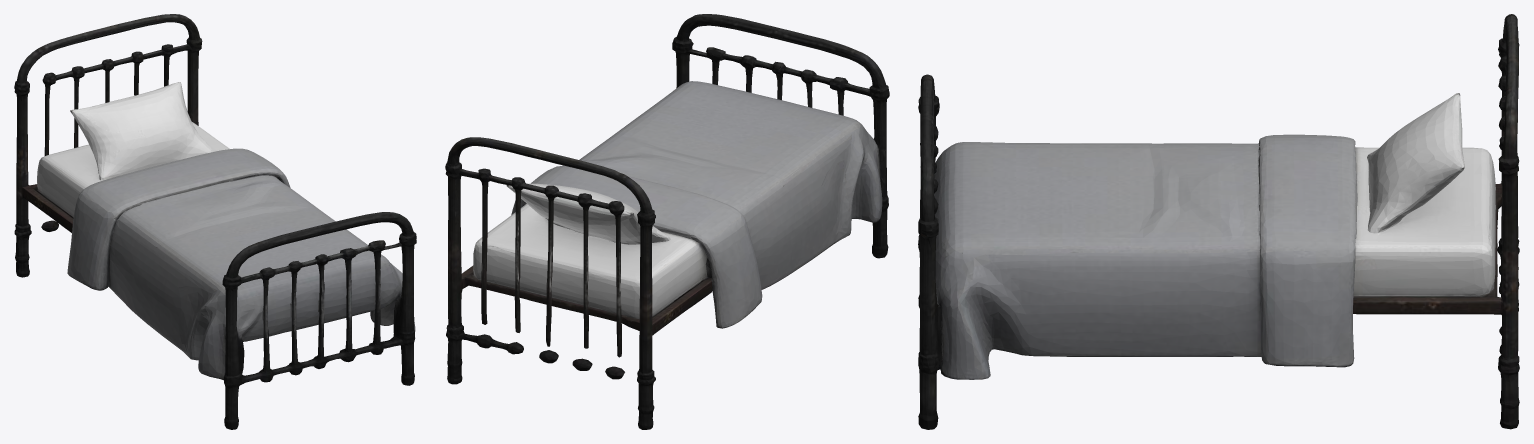
Rendered from singlebed.glb.
3 renders of one model, left to right at view 1: azimuth 30°, elevation 25°; view 2: azimuth 150°, elevation 25°; view 3: azimuth 270°, elevation 25°, orthographic. The views are drawn at different scales.
Parts seen in each view (by area): view 1: geometry_0; view 2: geometry_0; view 3: geometry_0.
Part boxes in pixels (x1,y1,x2,y2): geometry_0: (14, 14, 416, 429); geometry_0: (445, 14, 889, 429); geometry_0: (918, 14, 1519, 429).
Bounding box in the file's own units: 0.5793 × 0.5763 × 1.
1 material, 1 textured.
